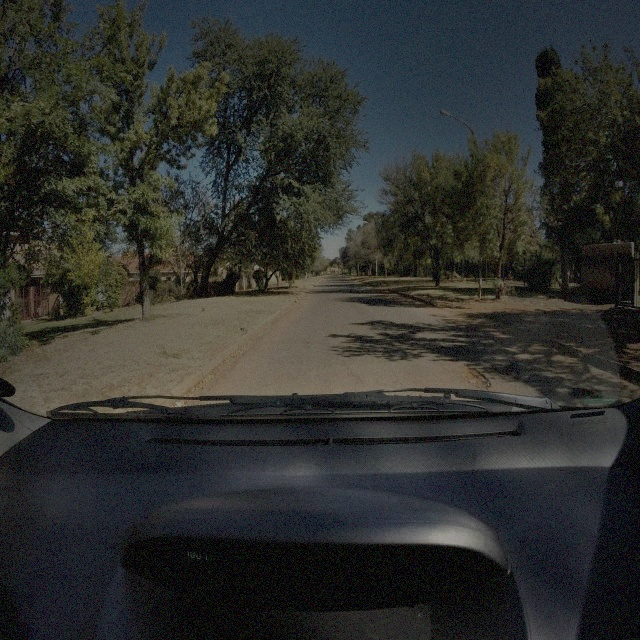pothole: (461, 365, 494, 393)
